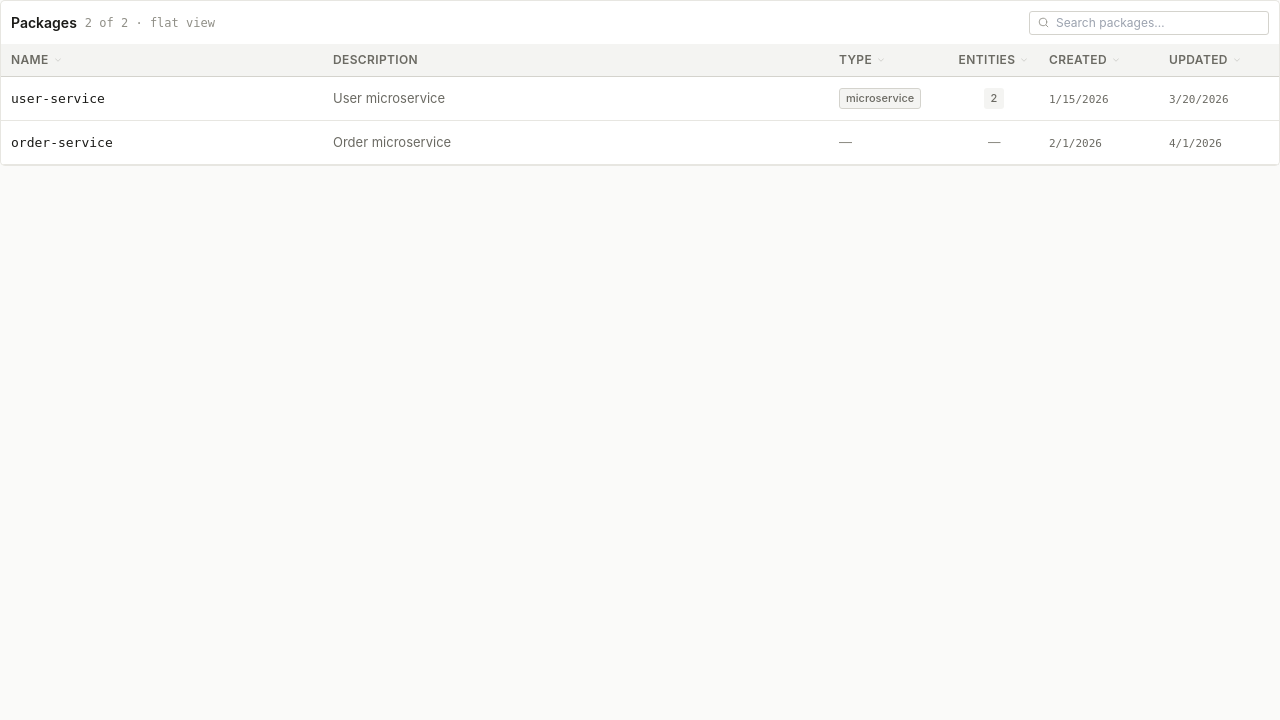
Test case: PackageFlatTable › saves a description change through the side panel
Expected: the text "User microservice" is shown, [333,90,445,106]
Click the text "user-service". click: (58, 99)
box: [11,89,105,108]
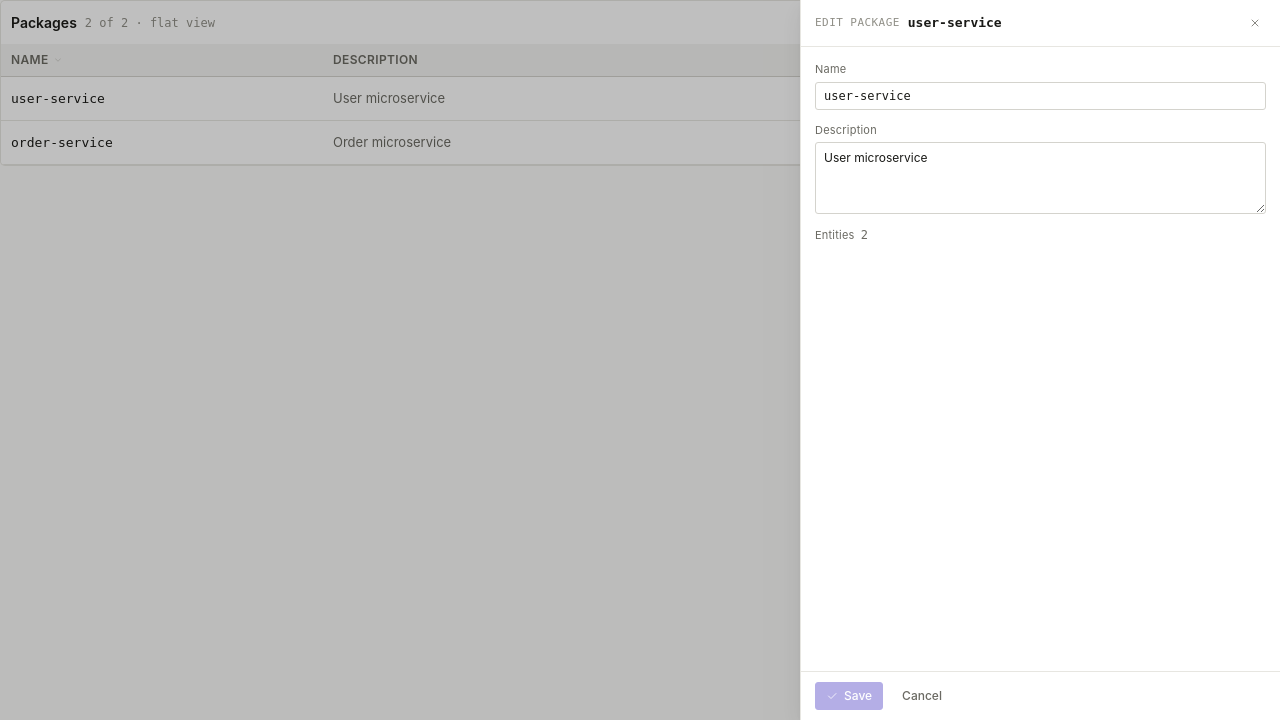
Replace the text in the text box labelled "Description" with "Account management service". click: (1040, 178)
box: [815,142,1266,214]
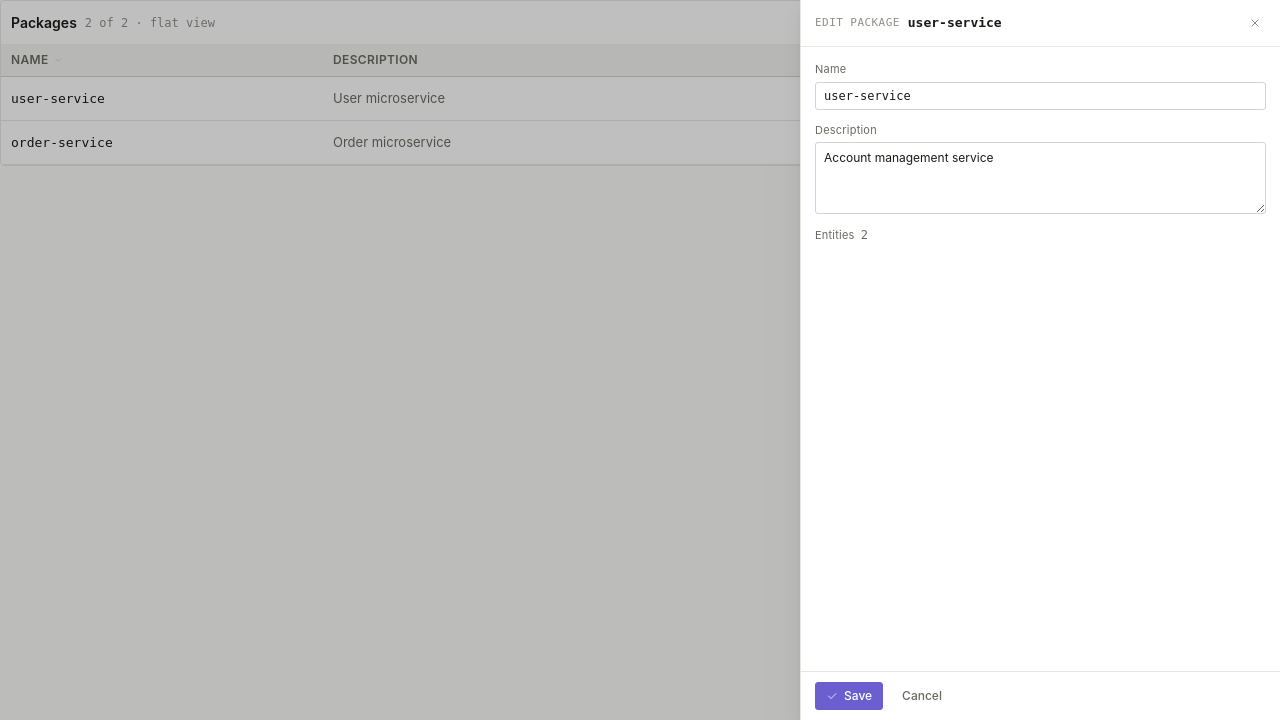
Click the button "Save". click: (849, 696)
box: [815,682,883,710]
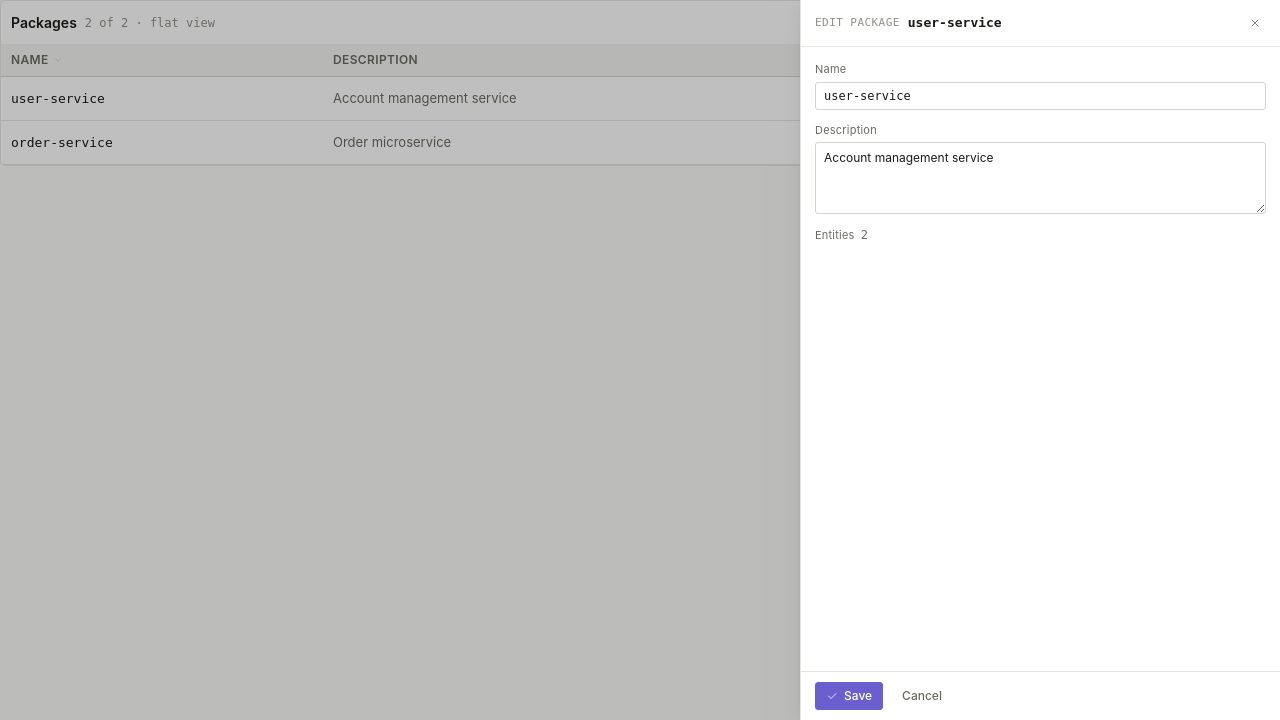
Expected: the text "User microservice" reads "Account management service", [333,90,517,106]
